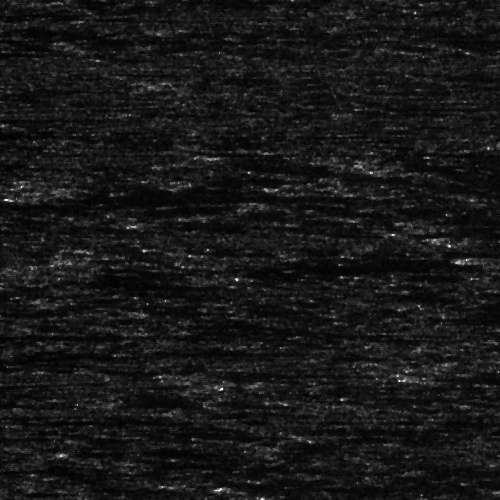object: (430, 252, 500, 265), (0, 190, 74, 201), (475, 109, 500, 122), (418, 375, 439, 382)
shadow: (27, 190, 369, 201), (0, 332, 311, 337), (429, 375, 500, 382), (0, 115, 115, 118), (0, 227, 29, 232)
